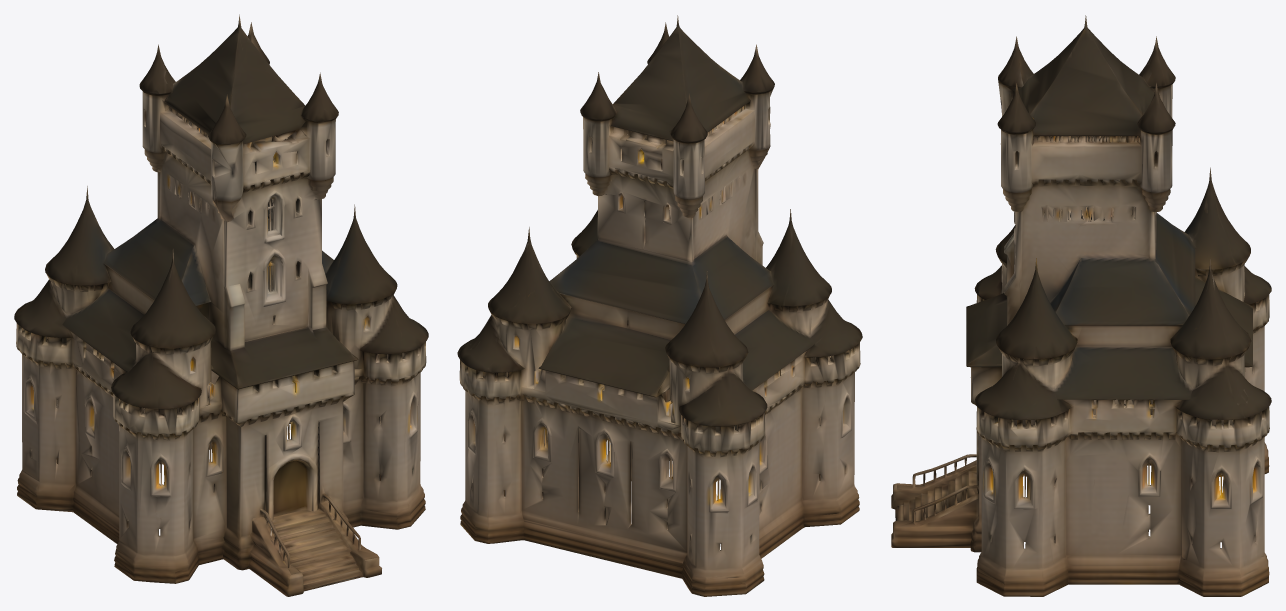
The model's file is castle-royal.glb.
The picture shows the model from 3 angles, left to right: view 1: azimuth 30°, elevation 25°; view 2: azimuth 150°, elevation 25°; view 3: azimuth 270°, elevation 25°; orthographic projection. The views are drawn at different scales.
Parts seen in each view (by area): view 1: material; view 2: material; view 3: material.
Boxes of the visible parts, left/top/right/bottom form: material: left=14, top=14, right=428, bottom=596; material: left=457, top=15, right=862, bottom=596; material: left=891, top=15, right=1271, bottom=596.
Bounding box in the file's own units: 0.5799 × 0.9207 × 0.6218.
1 material, 1 textured.
